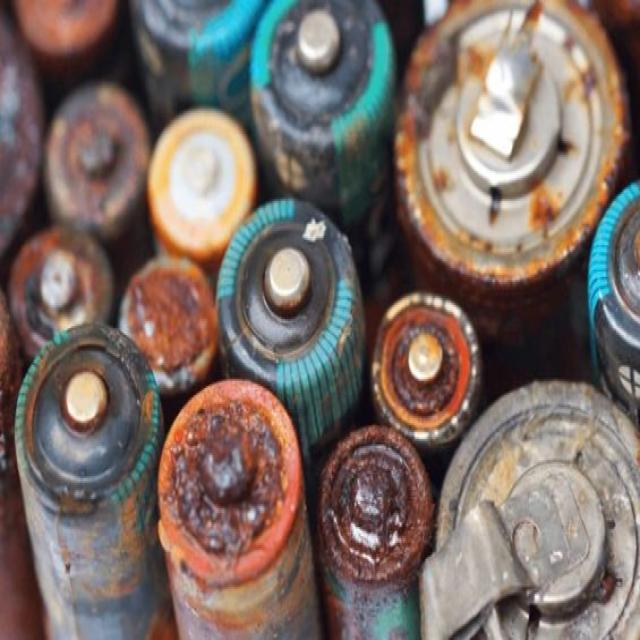electronic: (212, 191, 365, 438), (248, 3, 394, 214), (144, 109, 260, 264)
